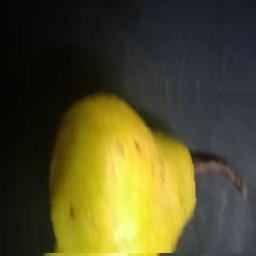Pear Fresh: (29, 76, 256, 253)
